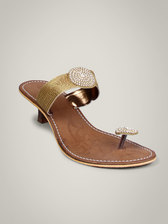shoes: (17, 70, 160, 168)
